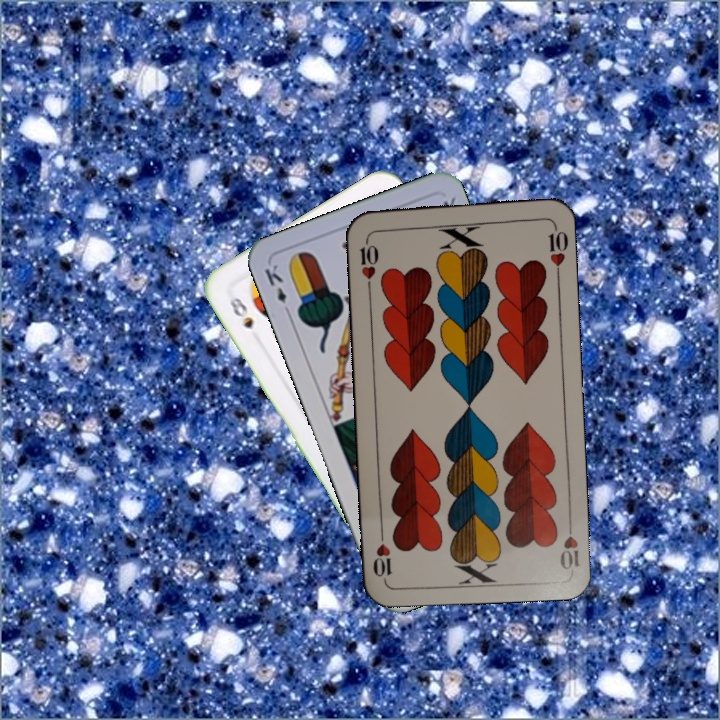EK: (260, 260, 294, 319)
H10: (355, 233, 382, 292), (556, 514, 582, 573)
S8: (225, 293, 256, 332)
